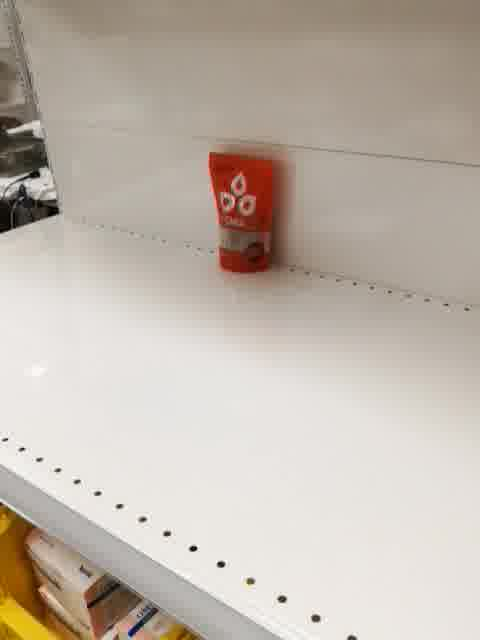whitechia: (206, 149, 281, 276)
